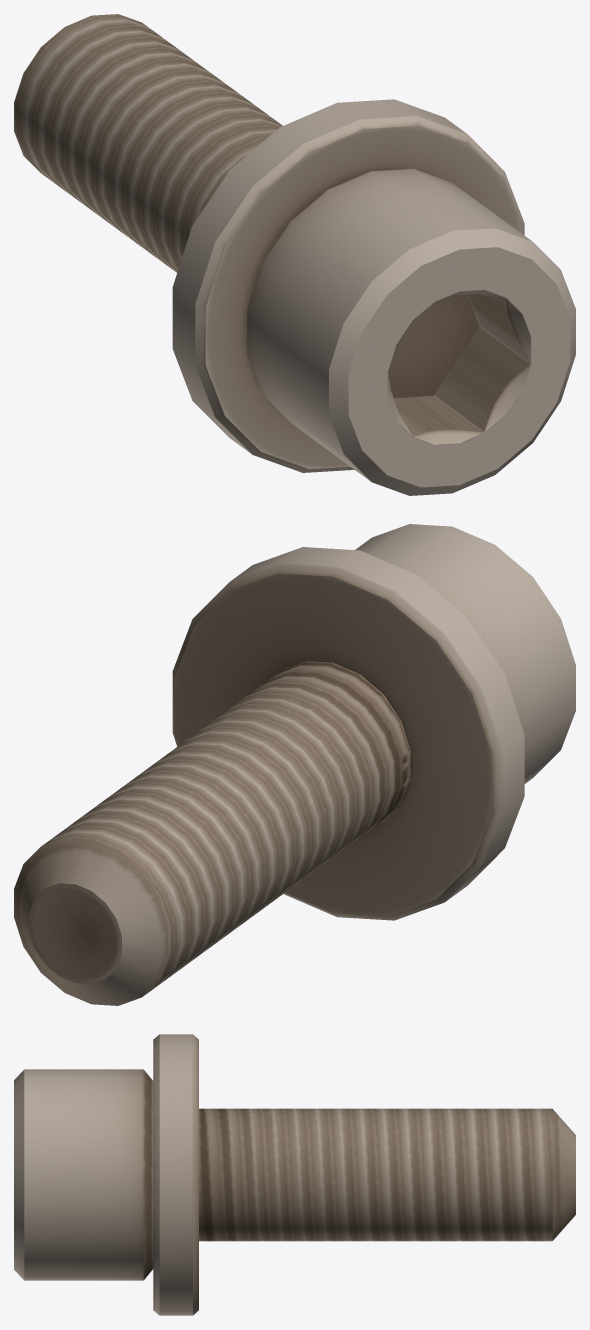
Rendered from Schraube.obj.
3 views of the same model, one above another, from view 1: azimuth 30°, elevation 25°; view 2: azimuth 150°, elevation 25°; view 3: azimuth 270°, elevation 25° (orthographic). The views are drawn at different scales.
Visible parts, largest first — view 1: polySurface957; view 2: polySurface957; view 3: polySurface957.
Boxes of the visible parts, x1,y1,x2,y2 form: polySurface957: (14,14,575,495); polySurface957: (14,524,575,1005); polySurface957: (14,1034,575,1315).
Size of the model in its own units: 12.58 by 12.78 by 25.4.
1 material, 1 textured.
